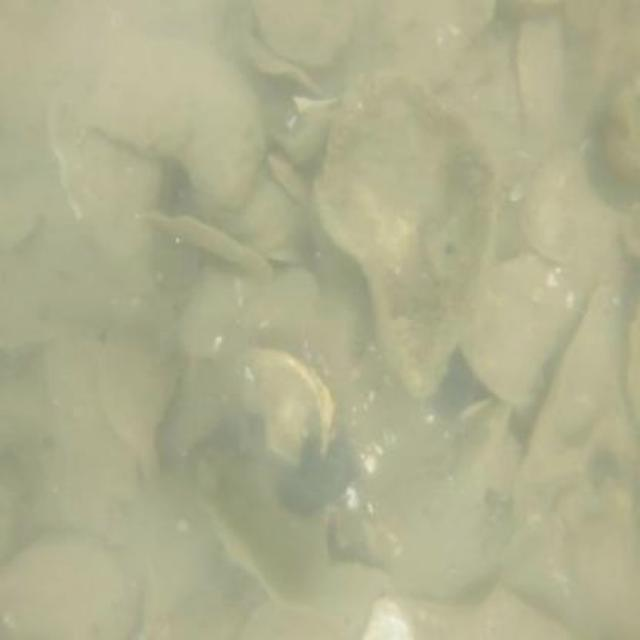Oyster-Closed: (303, 60, 504, 408), (83, 39, 263, 209), (192, 432, 332, 619), (457, 251, 565, 406), (0, 538, 139, 640), (238, 344, 334, 470), (99, 318, 182, 459), (137, 207, 272, 278), (254, 1, 351, 68)
